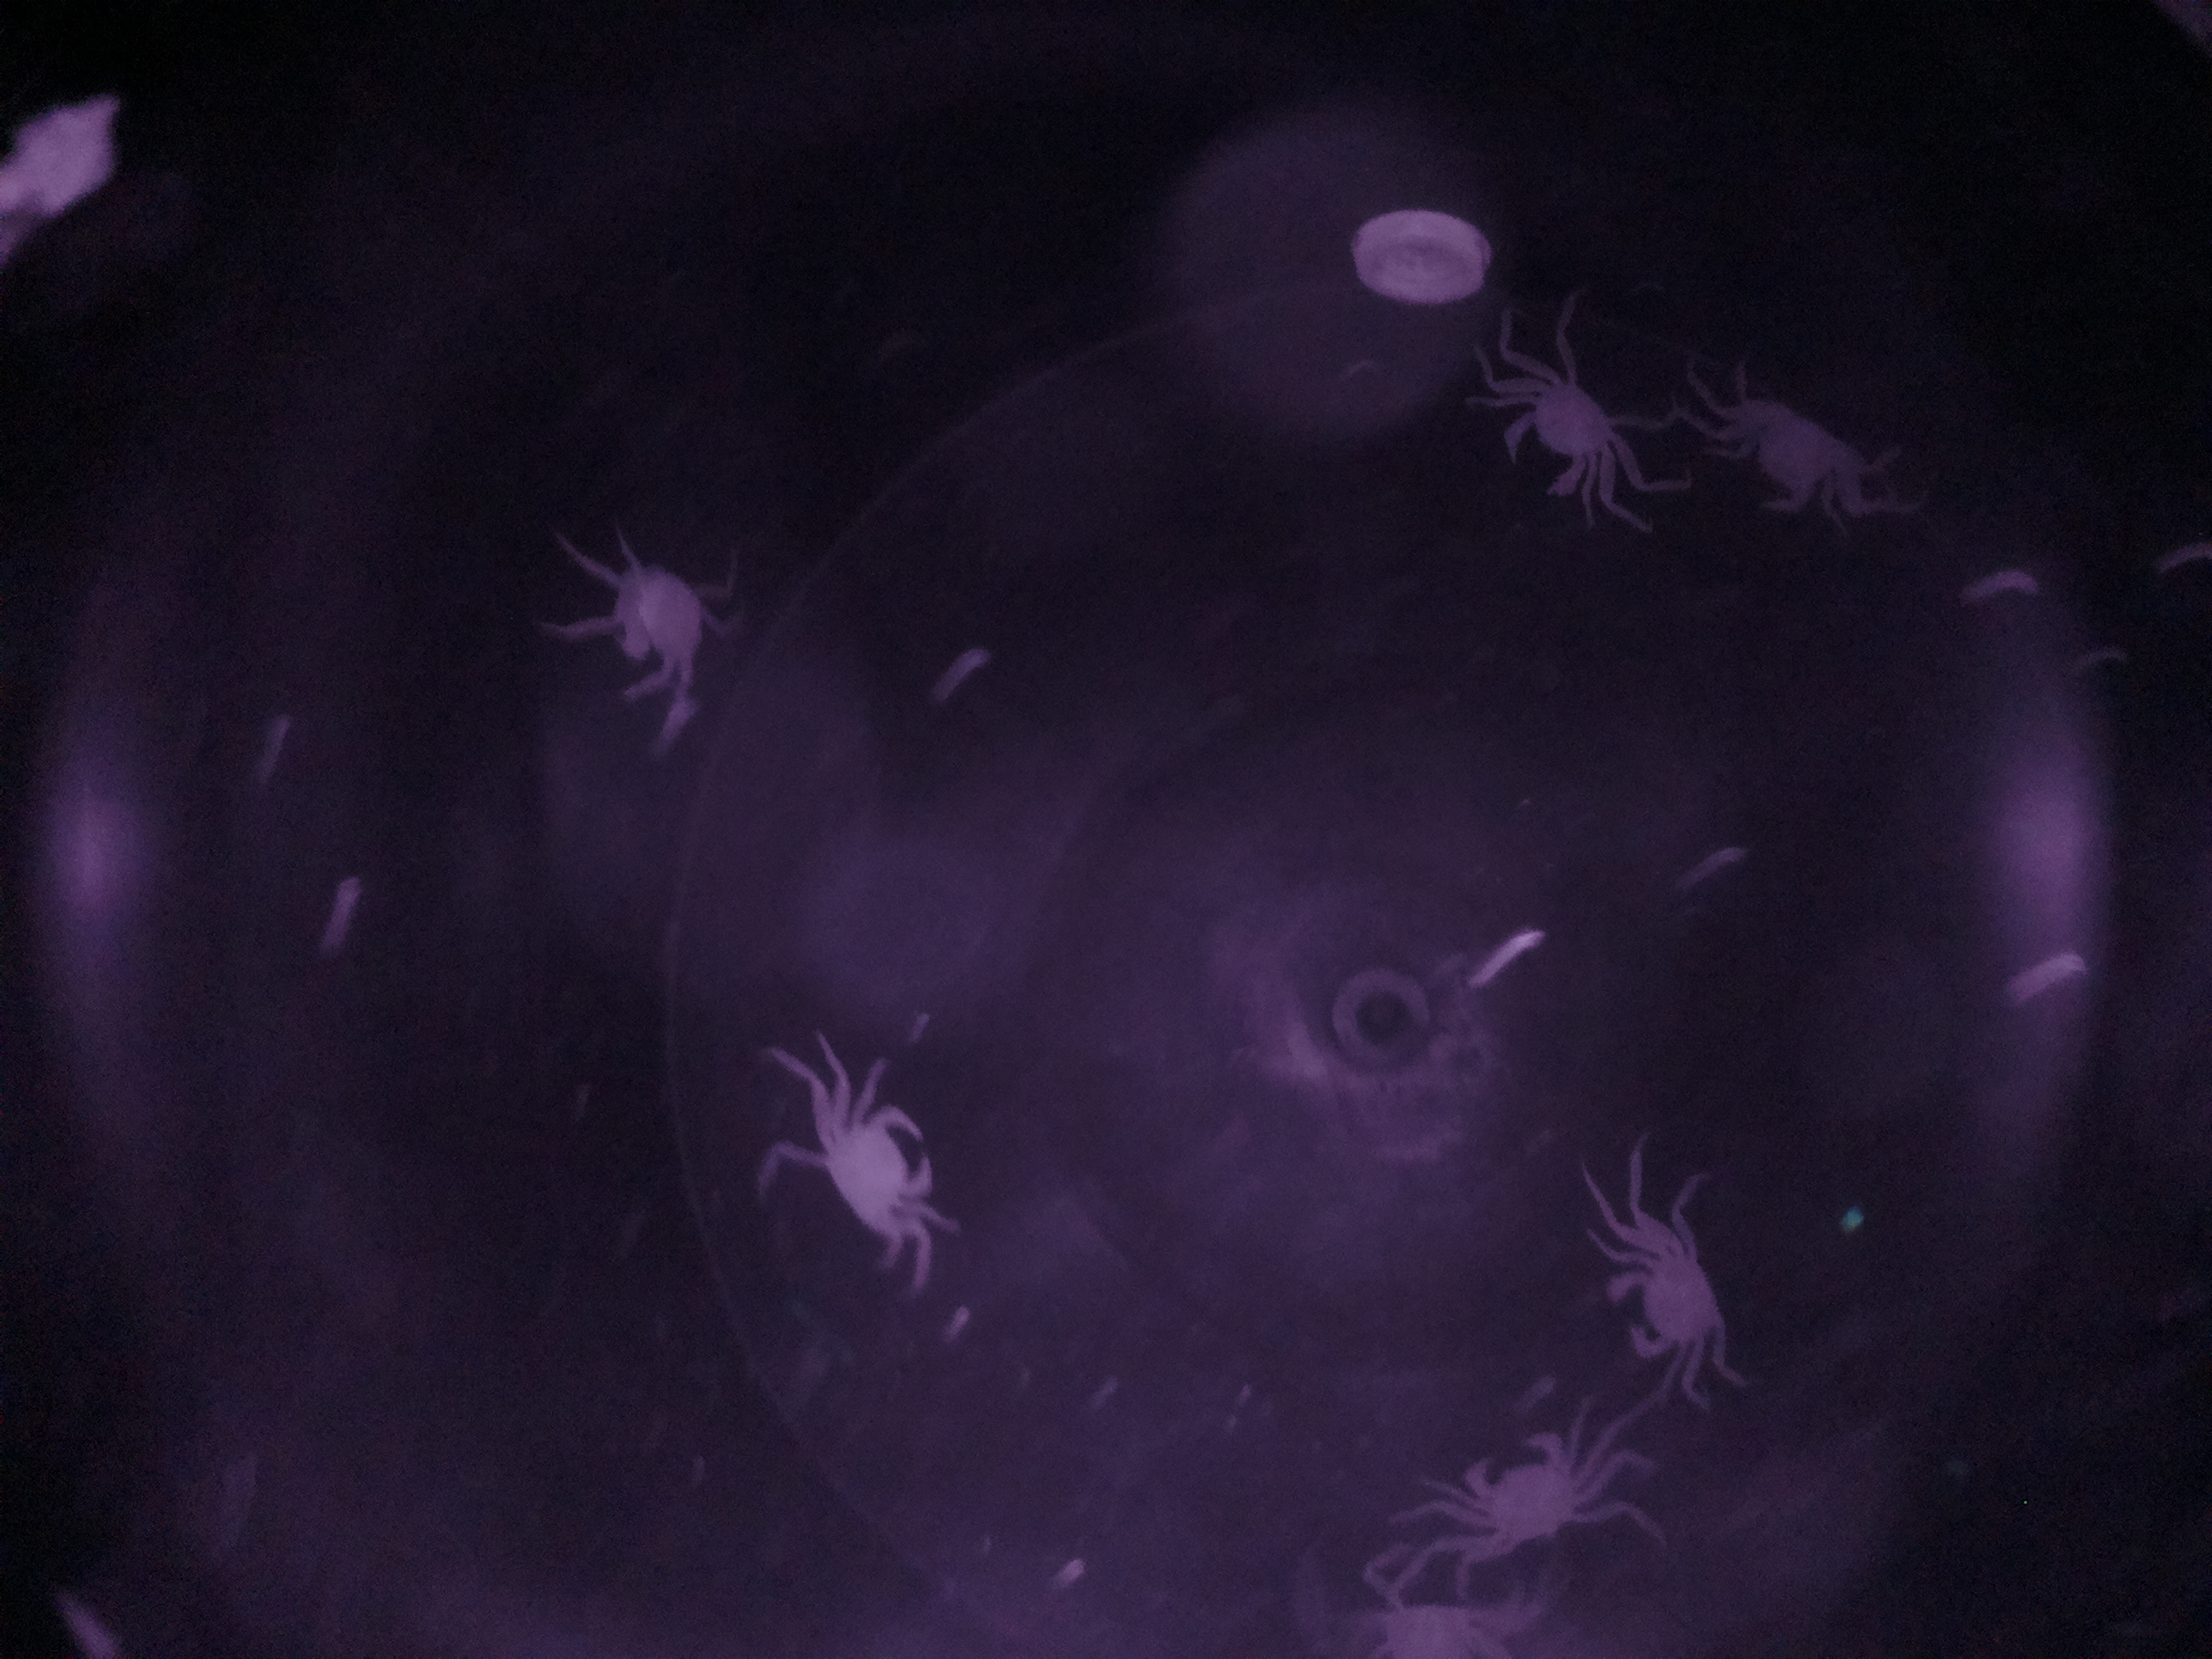Crab: (1416, 1419, 1602, 1561), (787, 1084, 944, 1244), (1592, 1223, 1747, 1385), (1494, 342, 1635, 509)
